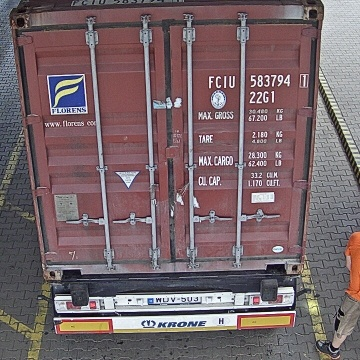serial_id: (209, 74, 309, 87)
